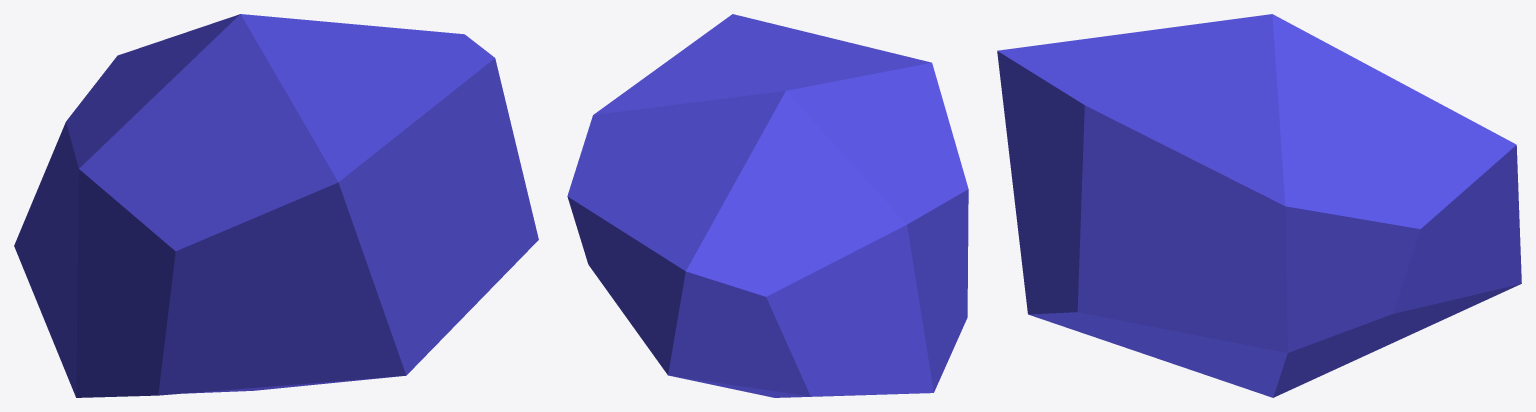
Rendered from IdeaGeo3.fbx.
The picture shows the model from 3 angles, left to right: view 1: azimuth 30°, elevation 25°; view 2: azimuth 150°, elevation 25°; view 3: azimuth 270°, elevation 25°; orthographic projection. The views are drawn at different scales.
Visible parts, largest first — view 1: Cube; view 2: Cube; view 3: Cube.
Boxes of the visible parts, <box> form: Cube: <box>14,14,538,397</box>; Cube: <box>567,14,968,397</box>; Cube: <box>997,14,1521,397</box>.
Size of the model in its own units: 222 by 197 by 248.
